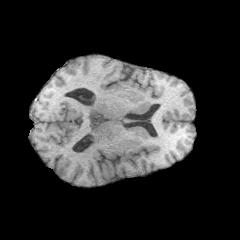glioma: (80, 105, 118, 148)
